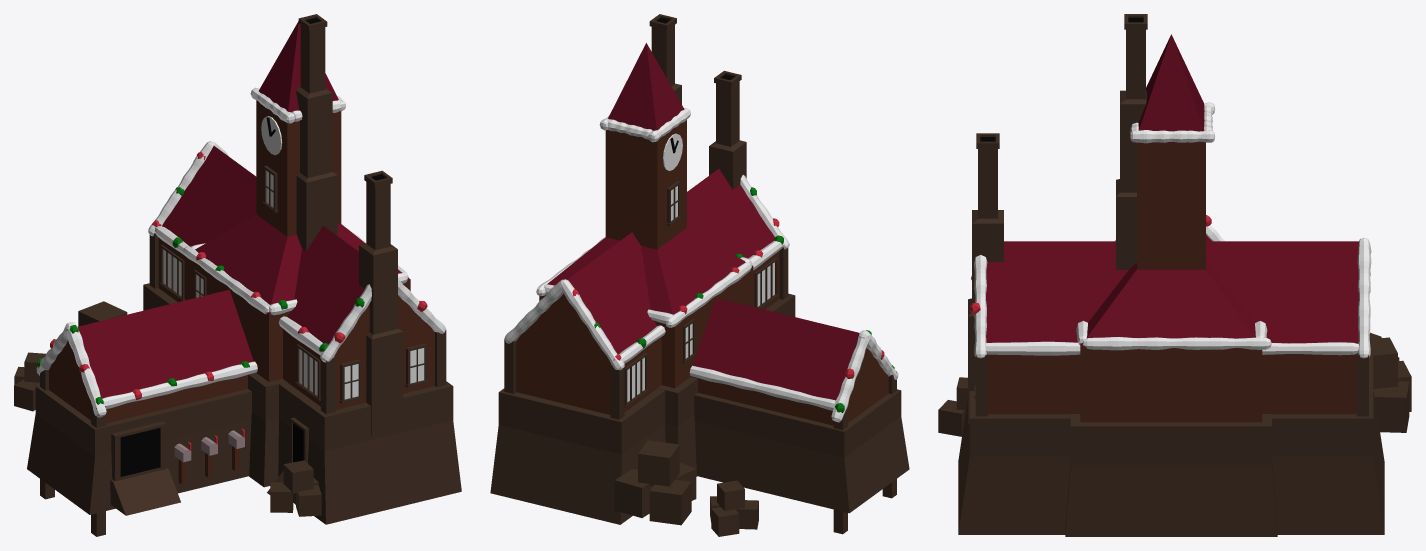
Rendered from Santas_Workshop.fbx.
3 renders of one model, left to right at view 1: azimuth 30°, elevation 25°; view 2: azimuth 150°, elevation 25°; view 3: azimuth 270°, elevation 25°, orthographic. The views are drawn at different scales.
Visible parts, largest first — view 1: Home Foundation.003, Home Base.002, Home Base.003, Home Foundation.004, Home Foundation.002, Tall Chimney.001, Tall Chimney.002, Home Foundation.005, Home Foundation, Door.003, Stair.003, Frosting Edge.012 (+23 smaller); view 2: Home Base.002, Home Foundation.004, Home Foundation.003, Home Base.003, Home Foundation.005, Home Foundation.002, Tall Chimney.001, Home Foundation, Cube.008, Cube.006, Frosting Edge.025, Tall Chimney.002 (+18 smaller); view 3: Home Base.002, Home Foundation.003, Home Foundation, Home Foundation.002, Home Foundation.005, Tall Chimney.002, Tall Chimney.001, Frosting Edge.026, Frosting Edge.027, Cube.005, Frosting Edge.018, Cube.008 (+5 smaller).
Boxes of the visible parts, x1,y1,x2,y2 form: Home Foundation.003: (143, 283, 461, 524); Home Base.002: (158, 145, 434, 409); Home Base.003: (49, 289, 253, 423); Home Foundation.004: (27, 385, 251, 514); Home Foundation.002: (187, 214, 410, 381); Tall Chimney.001: (359, 170, 403, 435); Tall Chimney.002: (296, 14, 337, 251); Home Foundation.005: (256, 21, 341, 236); Home Foundation: (248, 372, 286, 487); Door.003: (111, 421, 166, 480); Stair.003: (110, 467, 180, 515); Frosting Edge.012: (102, 361, 257, 408); Home Base.002: (516, 169, 779, 414); Home Foundation.004: (694, 389, 909, 513); Home Foundation.003: (490, 293, 795, 524); Home Base.003: (690, 298, 888, 425); Home Foundation.005: (605, 43, 686, 249); Home Foundation.002: (539, 228, 753, 388); Tall Chimney.001: (709, 70, 746, 189); Home Foundation: (657, 377, 697, 476); Cube.008: (638, 440, 679, 486); Cube.006: (649, 479, 691, 525); Frosting Edge.025: (689, 365, 835, 410); Tall Chimney.002: (649, 14, 681, 104); Home Base.002: (986, 241, 1358, 414); Home Foundation.003: (958, 348, 1384, 534); Home Foundation: (1065, 414, 1277, 536); Home Foundation.002: (1080, 240, 1262, 422); Home Foundation.005: (1137, 34, 1205, 269); Tall Chimney.002: (1116, 14, 1147, 269); Tall Chimney.001: (968, 133, 1003, 423); Frosting Edge.026: (985, 341, 1358, 355); Frosting Edge.027: (1082, 337, 1271, 350); Cube.005: (1373, 381, 1409, 432); Frosting Edge.018: (1357, 238, 1371, 358); Cube.008: (1369, 337, 1397, 388).
Size of the model in its own units: 262 by 348 by 298.
